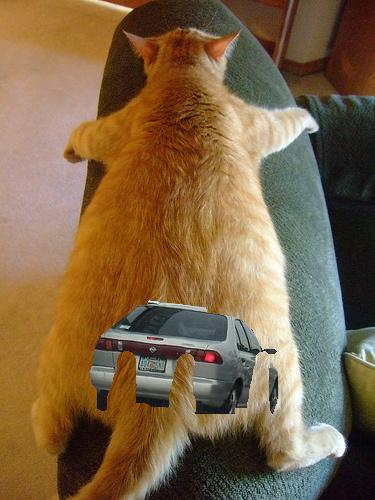tampered: (90, 301, 278, 414)
